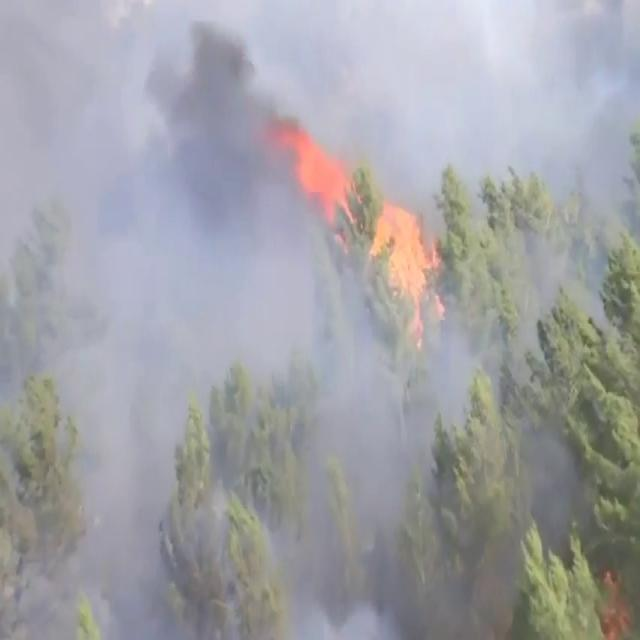Fire: (368, 198, 446, 350), (277, 124, 362, 229)
Smoke: (1, 1, 640, 640)
